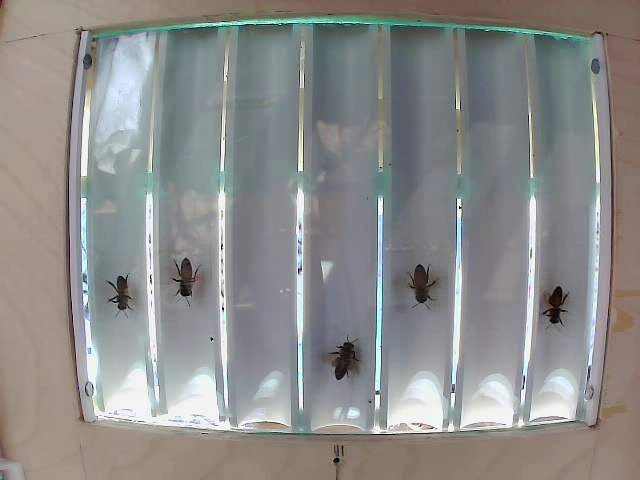bee: (156, 258, 204, 308), (316, 328, 361, 379), (398, 252, 438, 308), (534, 275, 570, 335), (97, 279, 132, 319)
